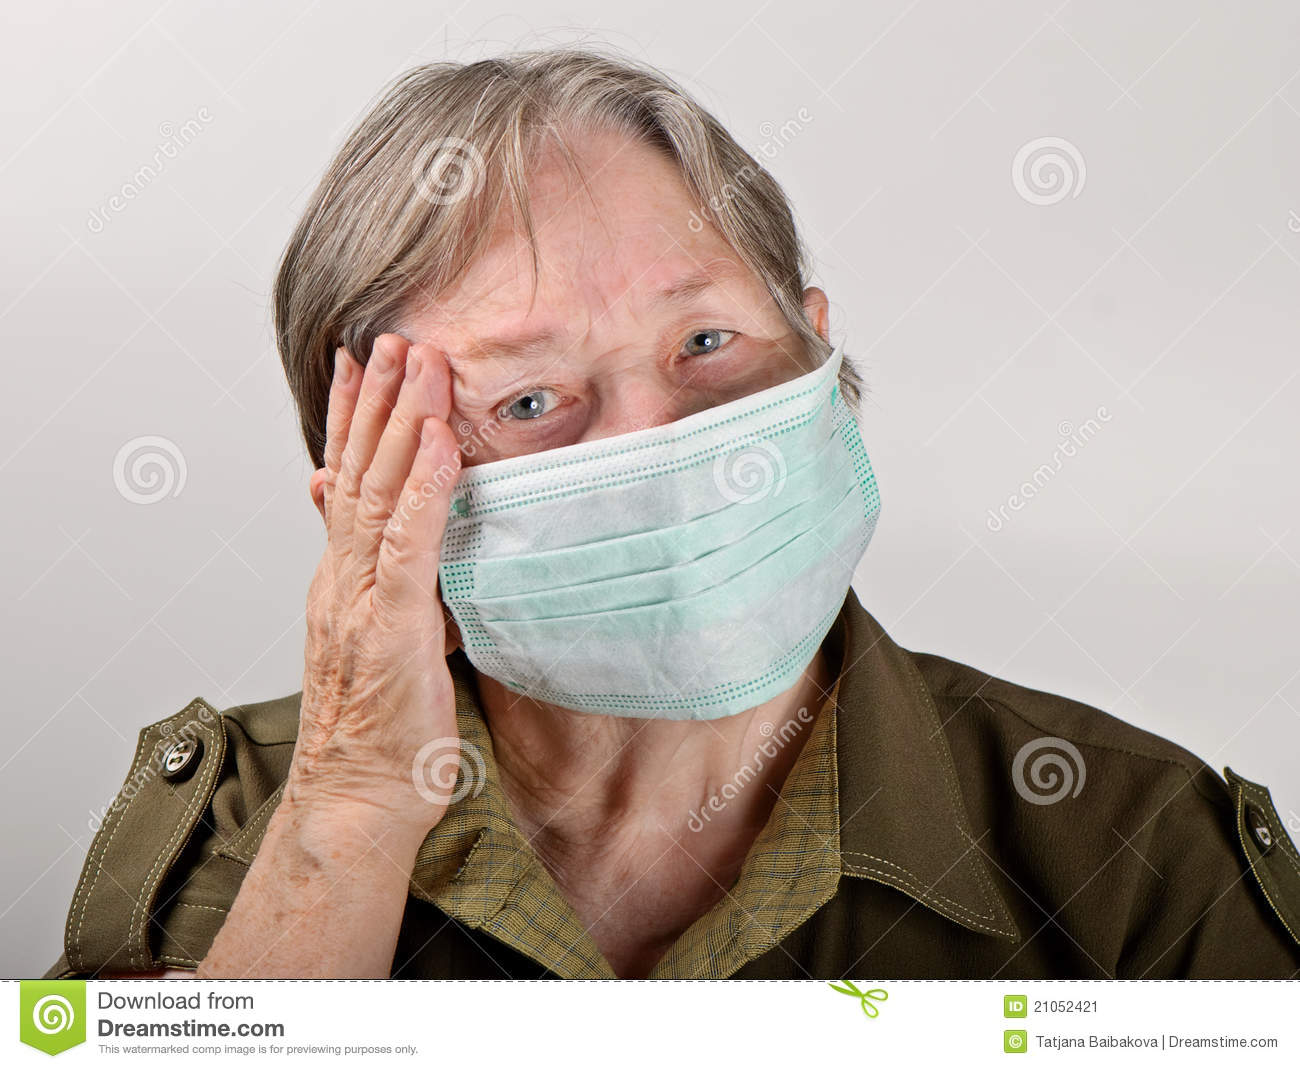mask: (436, 374, 883, 728)
